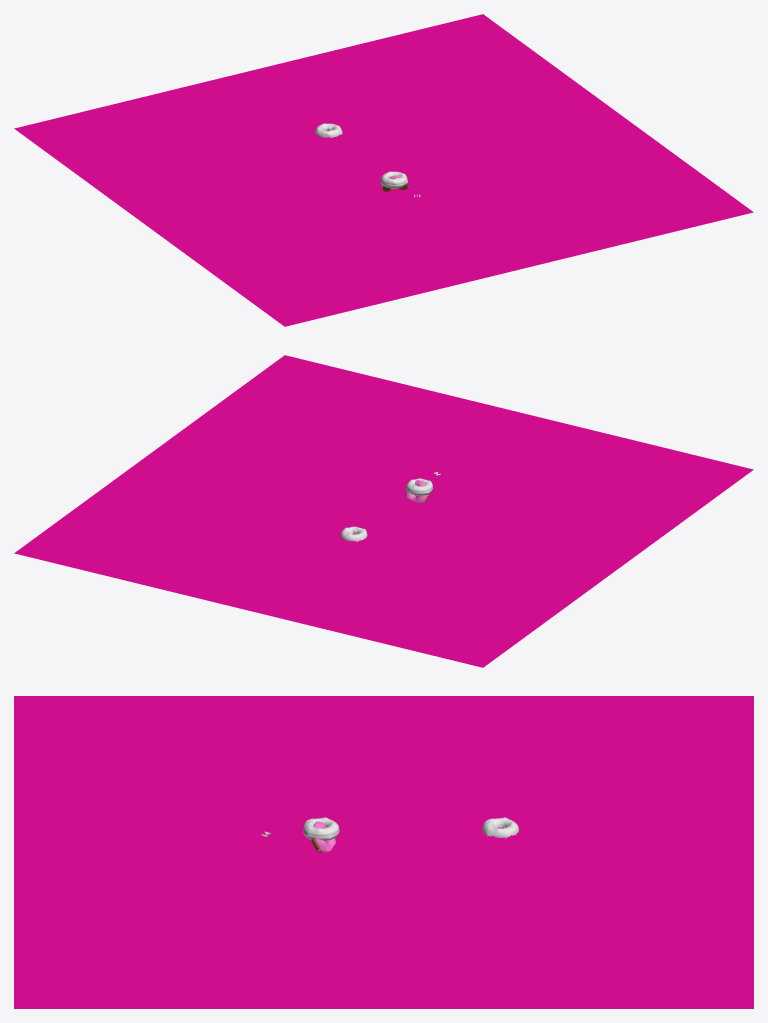
Rendered from Rosquinha.glb.
3 renders of one model, top to bottom at view 1: azimuth 30°, elevation 25°; view 2: azimuth 150°, elevation 25°; view 3: azimuth 270°, elevation 25°, orthographic. The views are drawn at different scales.
Visible parts, largest first — view 1: Plane; view 2: Plane; view 3: Plane, pão.BKP, cobertura.BKP.
Boxes of the visible parts, x1,y1,x2,y2 form: Plane: (14,14,753,326); Plane: (14,355,753,667); Plane: (14,696,753,1008); pão.BKP: (303,817,339,840); cobertura.BKP: (482,817,518,839).
Bounding box in the file's own units: 1.99 × 0.0942 × 1.99.
4 materials, 1 textured.
